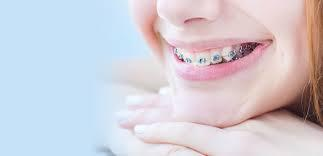Braces: (172, 45, 258, 65)
